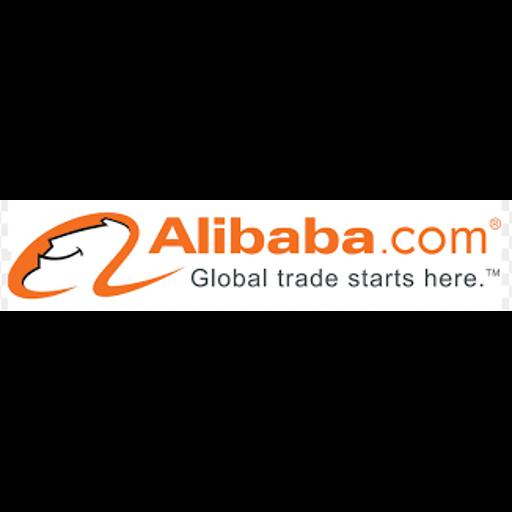Alibaba: (0, 200, 512, 311)
